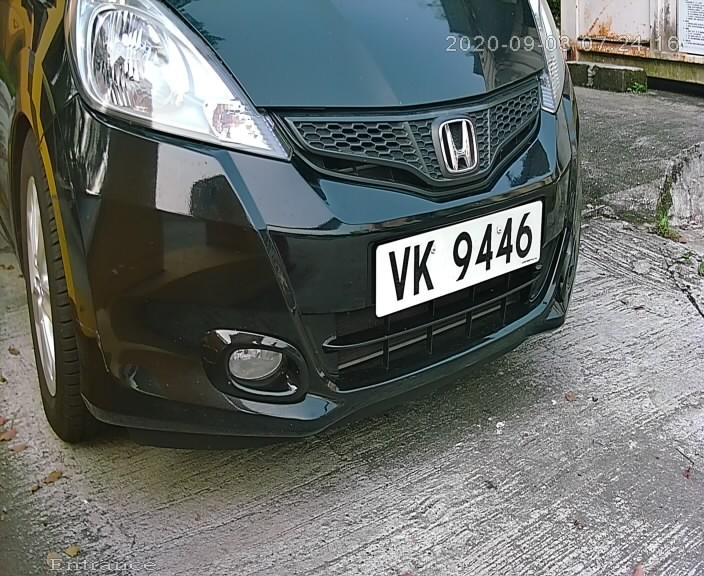License Plate: (371, 201, 544, 317)
